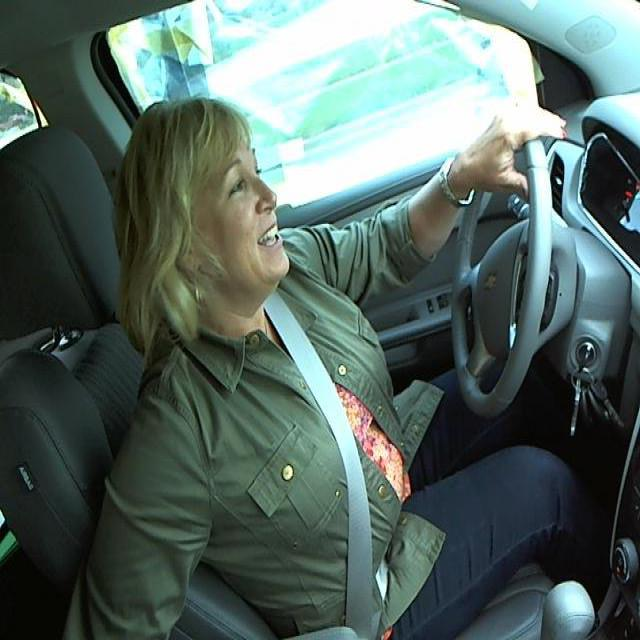seatbelt: (255, 313, 397, 639)
